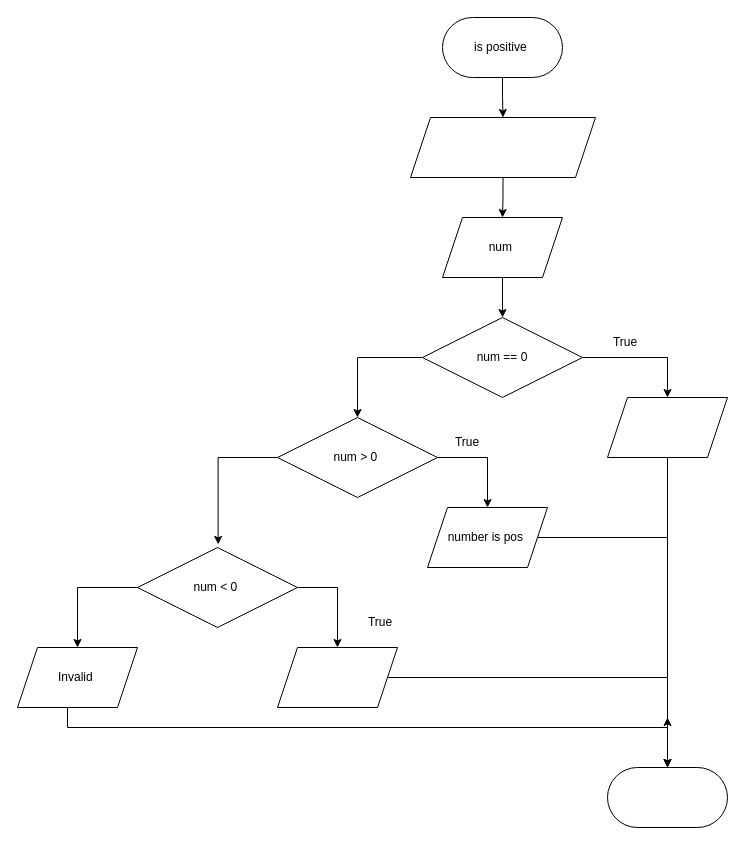
Some shapes in this 745 by 845 pixel diagram are drawn without their labels. The shapes that lost their labels are listed below. From the top down, each one's centre as x and y in pixels, then its label:
At (x=503, y=147): "Enter your number".
At (x=667, y=427): "number = 0".
At (x=337, y=677): "number is neg".
At (x=667, y=797): "END".
